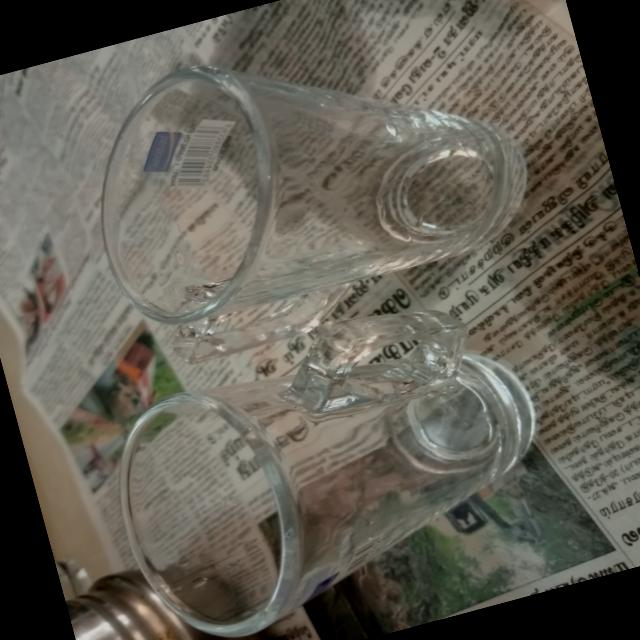glass-VX4N: (61, 0, 551, 381), (86, 279, 573, 640)
